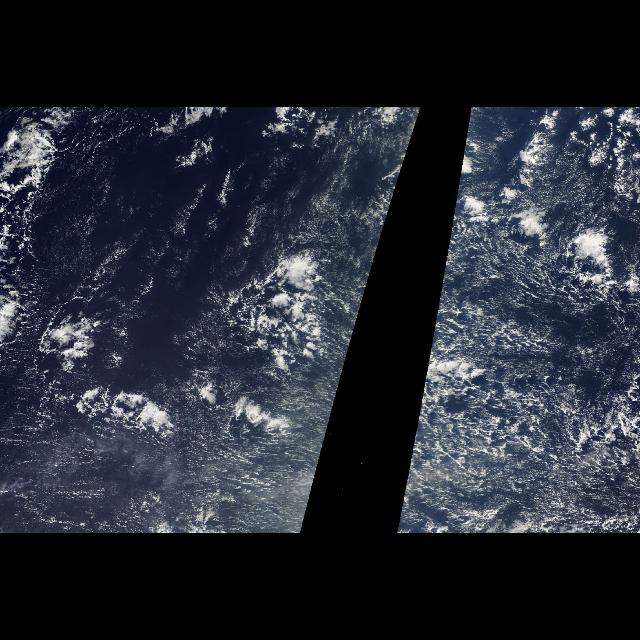Sugar: (0, 430, 298, 532)
